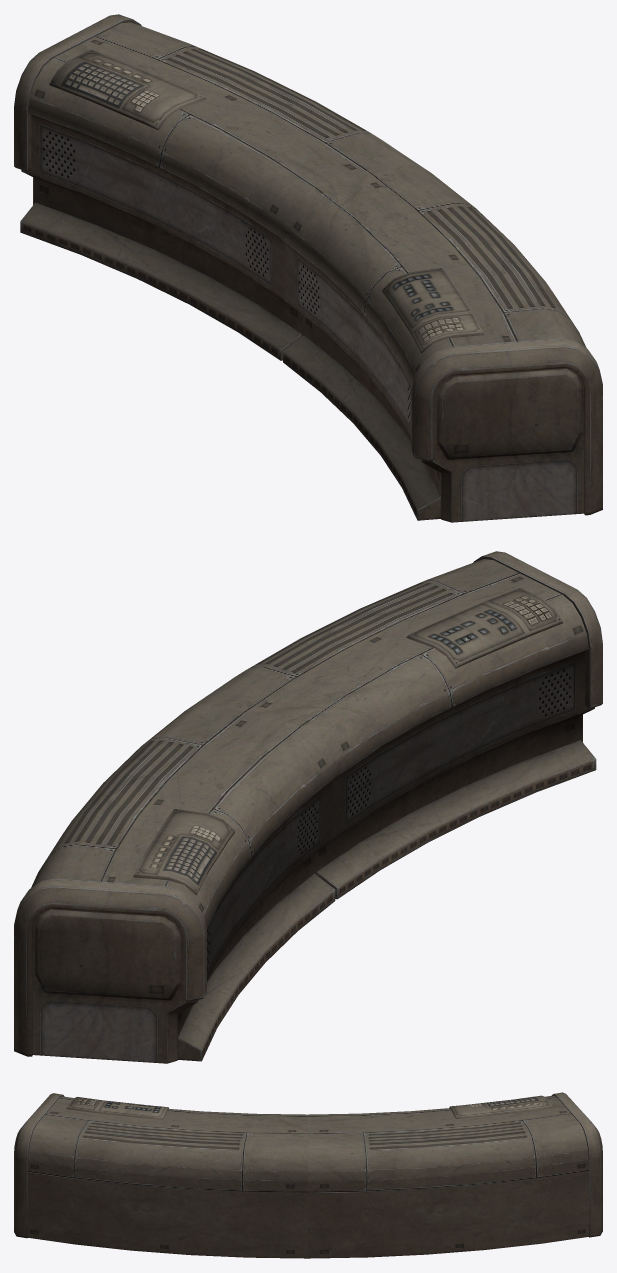
The model's file is 01_02_comm_room_computer.dae.
3 views of the same model, one above another, from view 1: azimuth 30°, elevation 25°; view 2: azimuth 150°, elevation 25°; view 3: azimuth 270°, elevation 25° (orthographic). The views are drawn at different scales.
Visible parts, largest first — view 1: computer_pplant_comm_room; view 2: computer_pplant_comm_room; view 3: computer_pplant_comm_room.
Boxes of the visible parts, x1=… form: computer_pplant_comm_room: x1=14, y1=14, x2=602, y2=522; computer_pplant_comm_room: x1=14, y1=551, x2=602, y2=1063; computer_pplant_comm_room: x1=14, y1=1092, x2=602, y2=1258.
Bounding box in the file's own units: 1.44 × 1.01 × 5.12.
